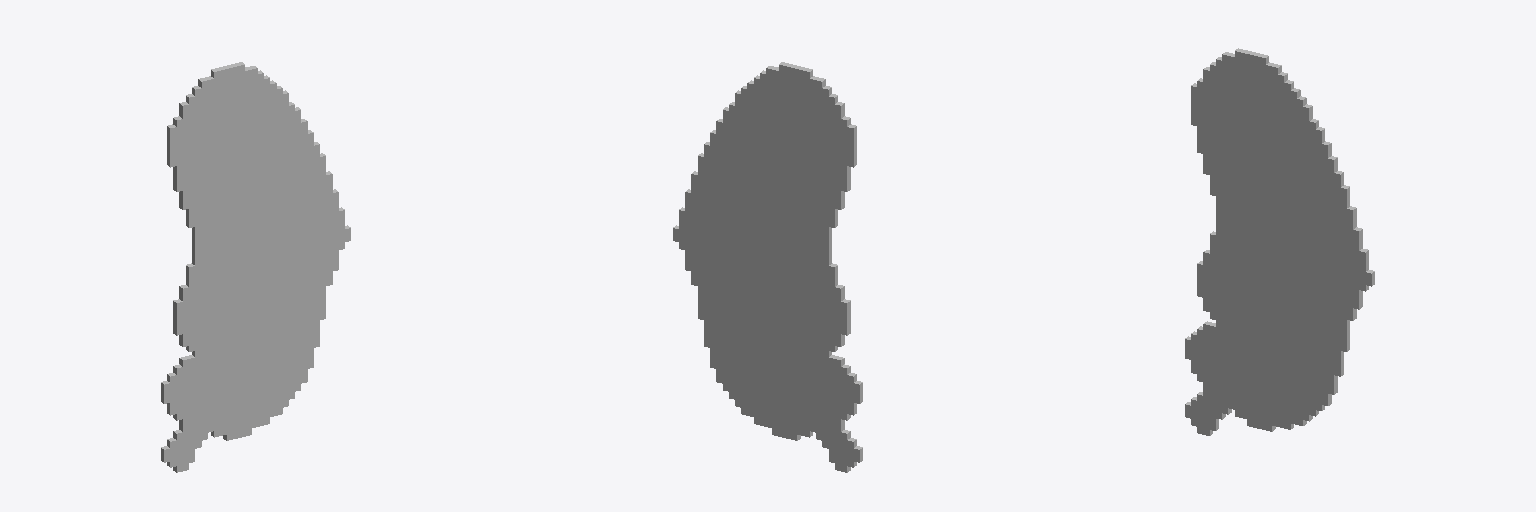
File: butterfly1_wing.obj
3 views of the same model, side by side, from view 1: azimuth 30°, elevation 25°; view 2: azimuth 150°, elevation 25°; view 3: azimuth 330°, elevation 25° (orthographic).
Parts seen in each view (by area): view 1: butterfly1_wing; view 2: butterfly1_wing; view 3: butterfly1_wing.
Boxes of the visible parts, x1,y1,x2,y2 form: butterfly1_wing: [161, 62, 350, 472]; butterfly1_wing: [673, 62, 862, 472]; butterfly1_wing: [1185, 48, 1374, 435].
Size of the model in its own units: 15 by 30 by 0.5.